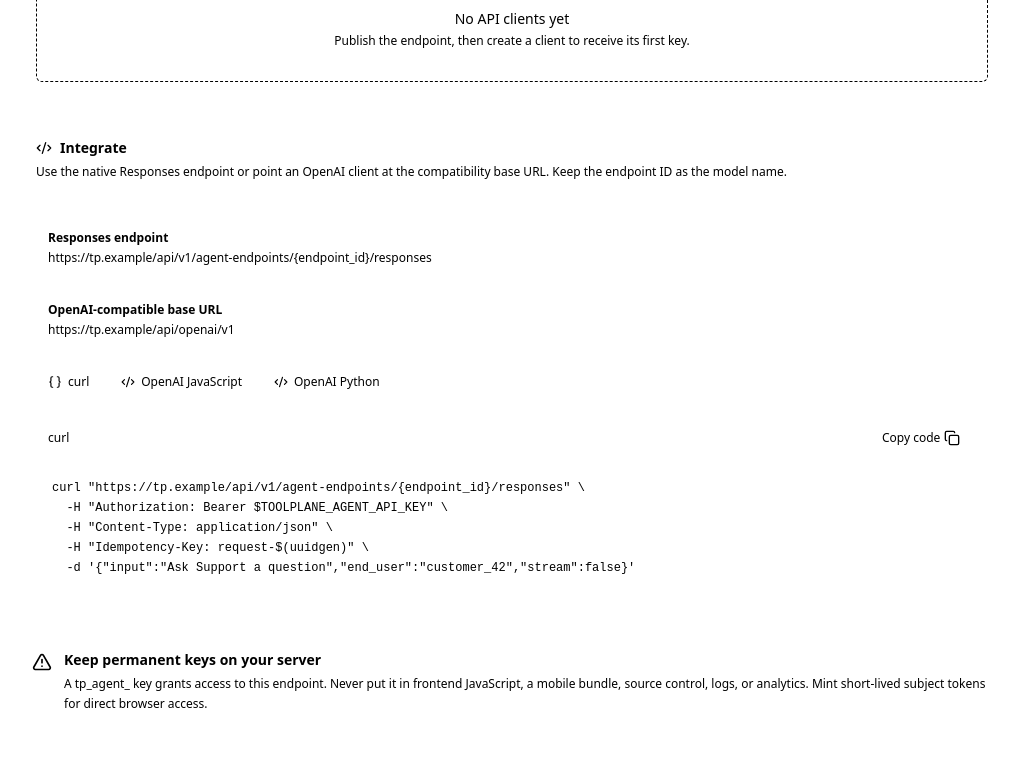
Test: Agent API publishing and credentials › makes unpublished configuration read-only for members and keeps integration examples usable
(page scrolled)
Click the tab "OpenAI JavaScript" at (182, 382), box [109,366,254,398]
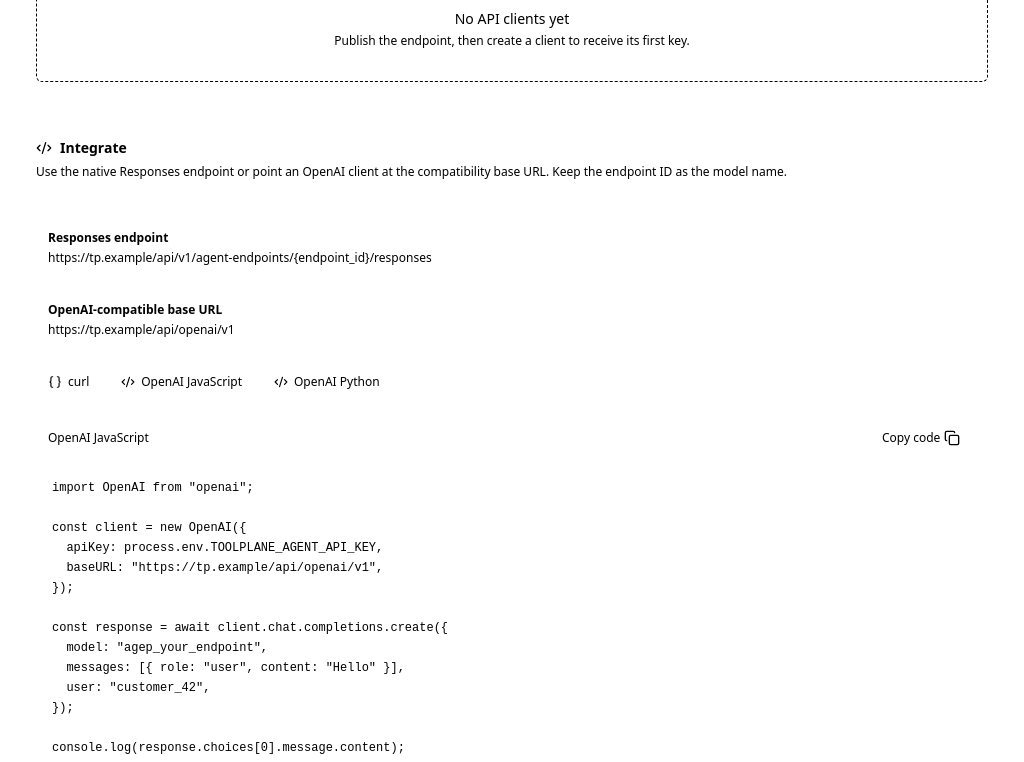
Expected: the text "model: \"agep_your_endpoint\"" is shown, [52,481,448,755]
Expected: the text "baseURL: \"https://tp.example/api/openai/v1\"" is shown, [52,481,448,755]
Click the tab "OpenAI Python" at (327, 382), box [262,366,392,398]
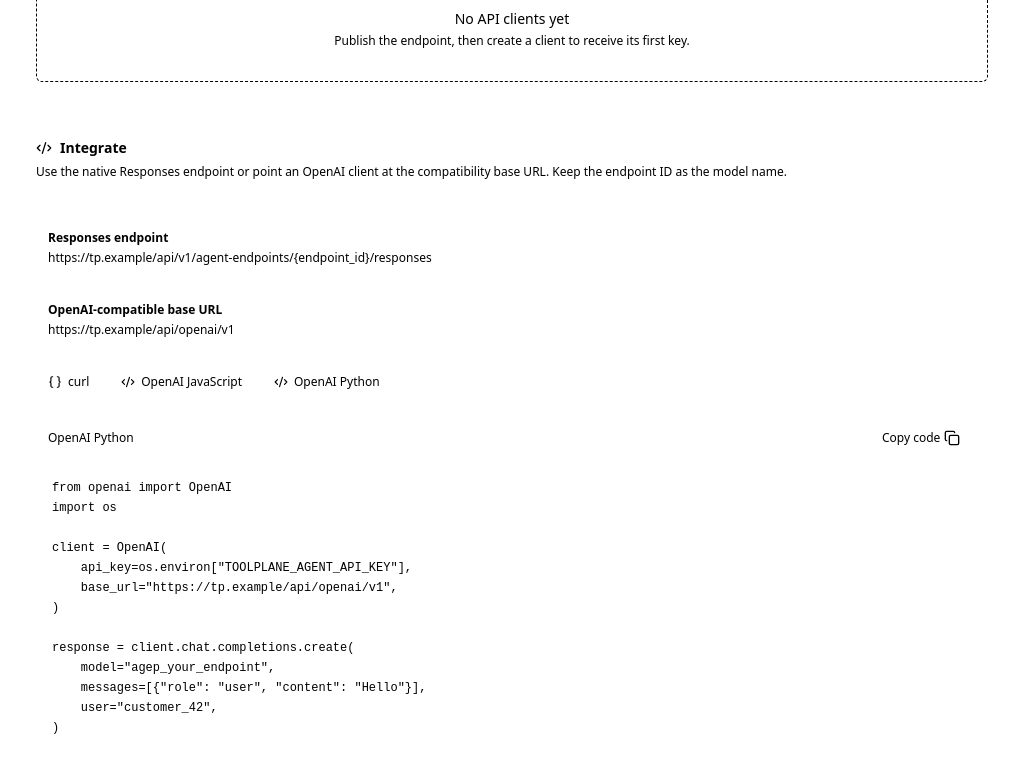
Click the tab "curl" at (69, 382), box [36,366,101,398]
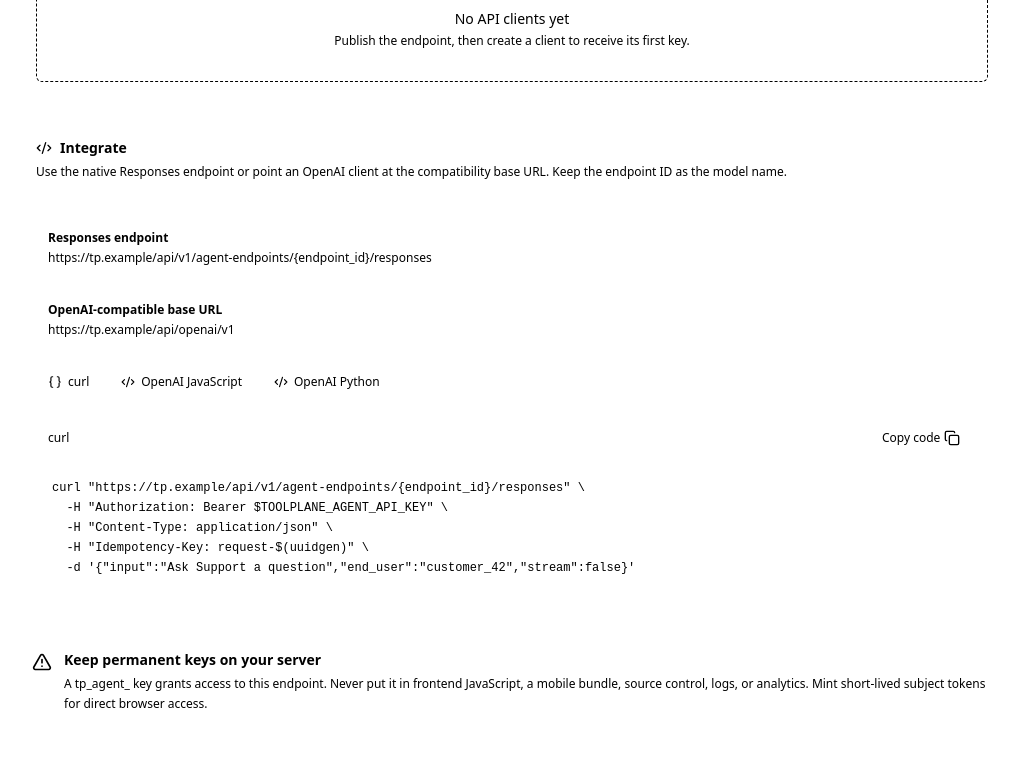
Expected: the text "/agent-endpoints/{endpoint_id}/responses" is shown, [52,481,635,575]
